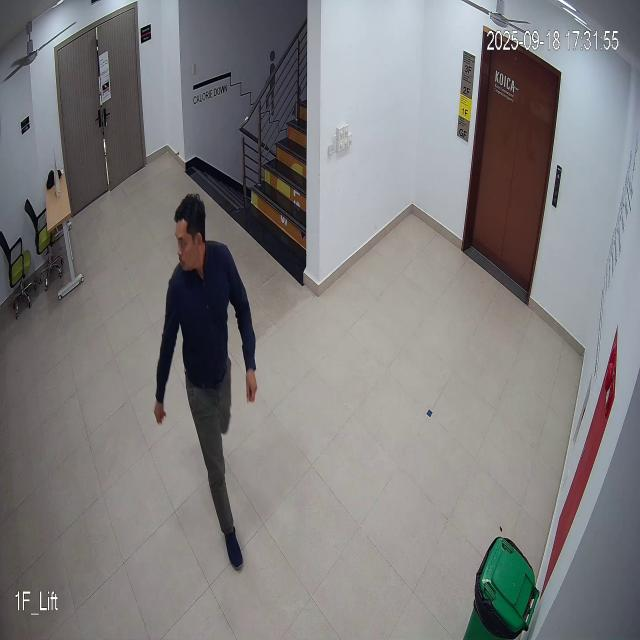face: (175, 191, 209, 275)
